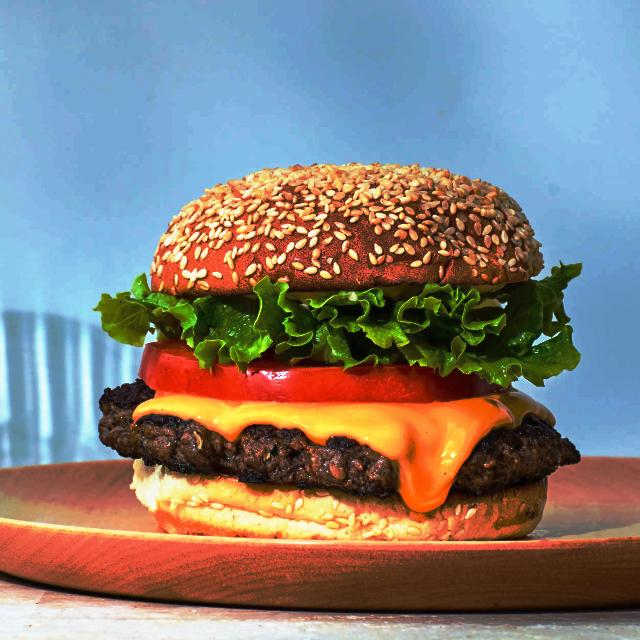burger: (99, 160, 584, 544)
